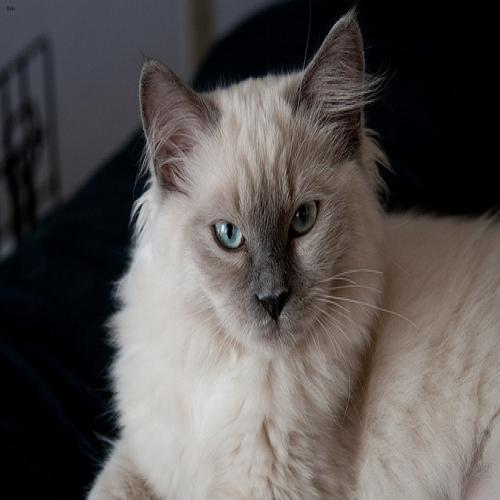ragdoll: (126, 6, 385, 358)
